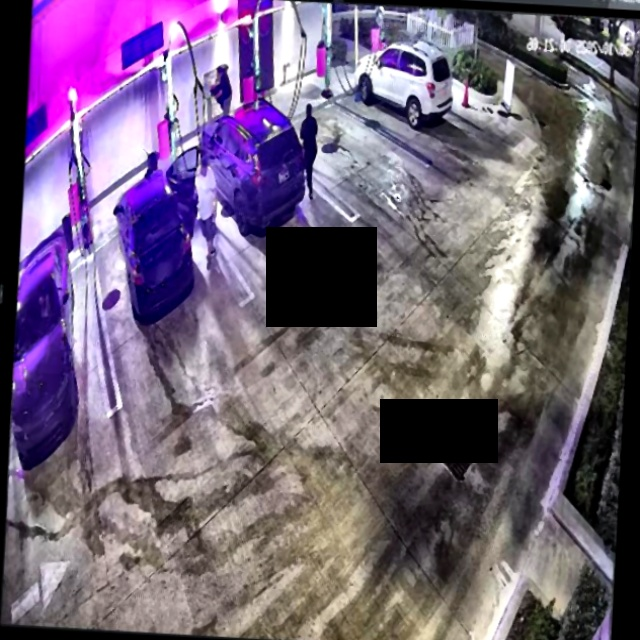Car: (111, 145, 201, 321), (196, 95, 305, 230)
